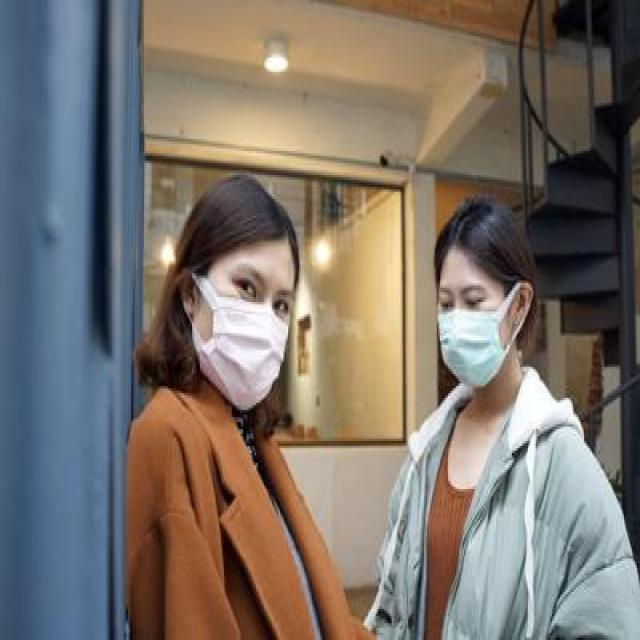with_mask: (198, 263, 294, 414), (435, 279, 512, 389)
